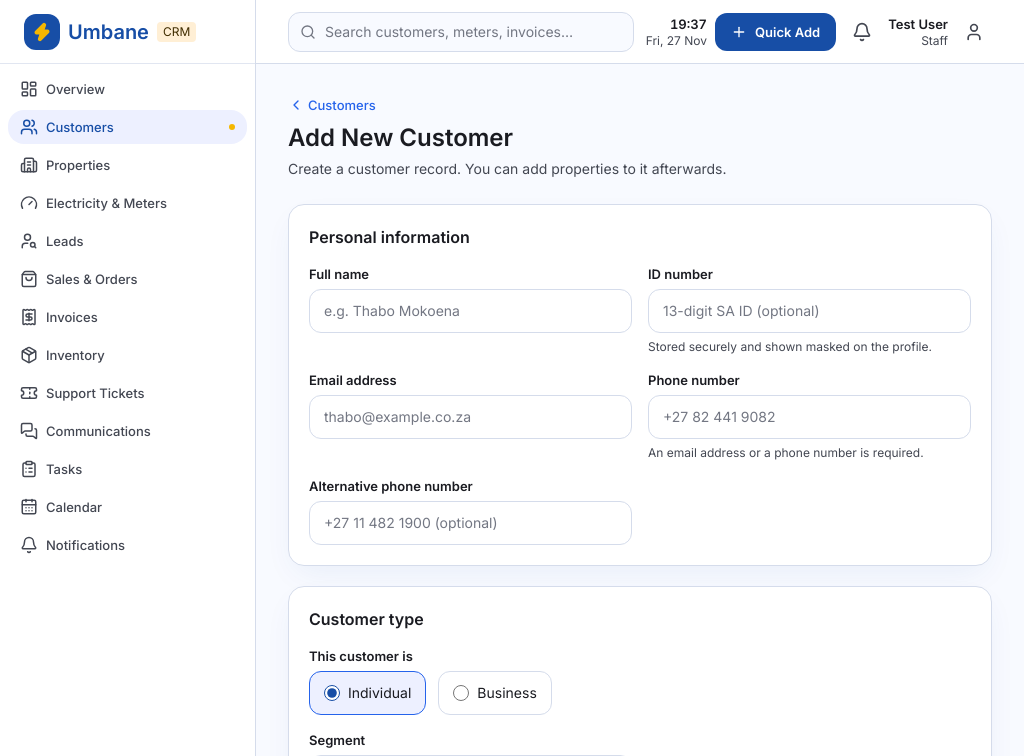
Test: add customer › validates the ID number, email, phone and postal code
In the field labelled "Full name": (470,311) left=309, top=289, right=632, bottom=333, type "Thabo Mokoena"
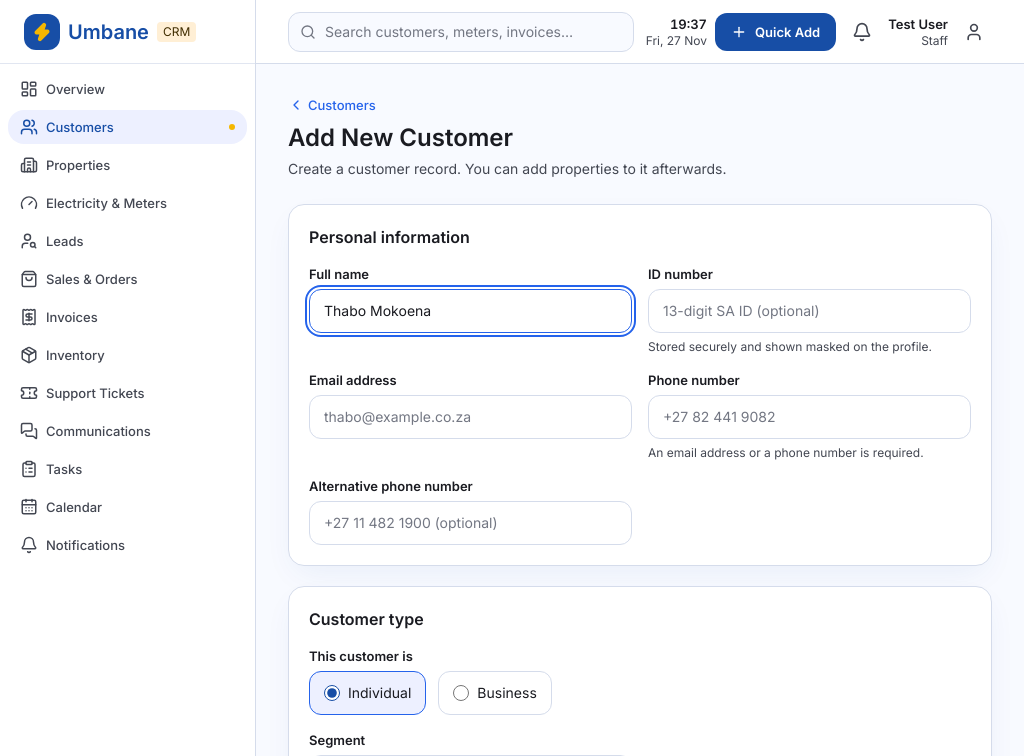
In the field labelled "ID number": (810,311) left=648, top=289, right=971, bottom=333, type "8805145028085"
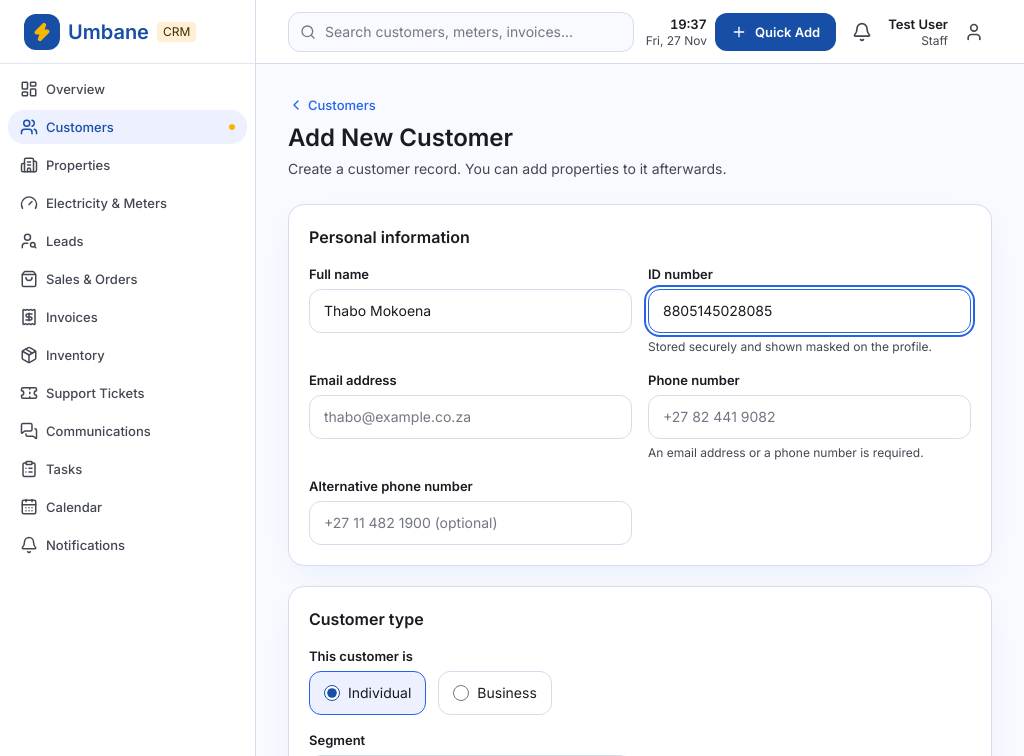
In the field labelled "Email address": (470,417) left=309, top=395, right=632, bottom=439, type "nope"
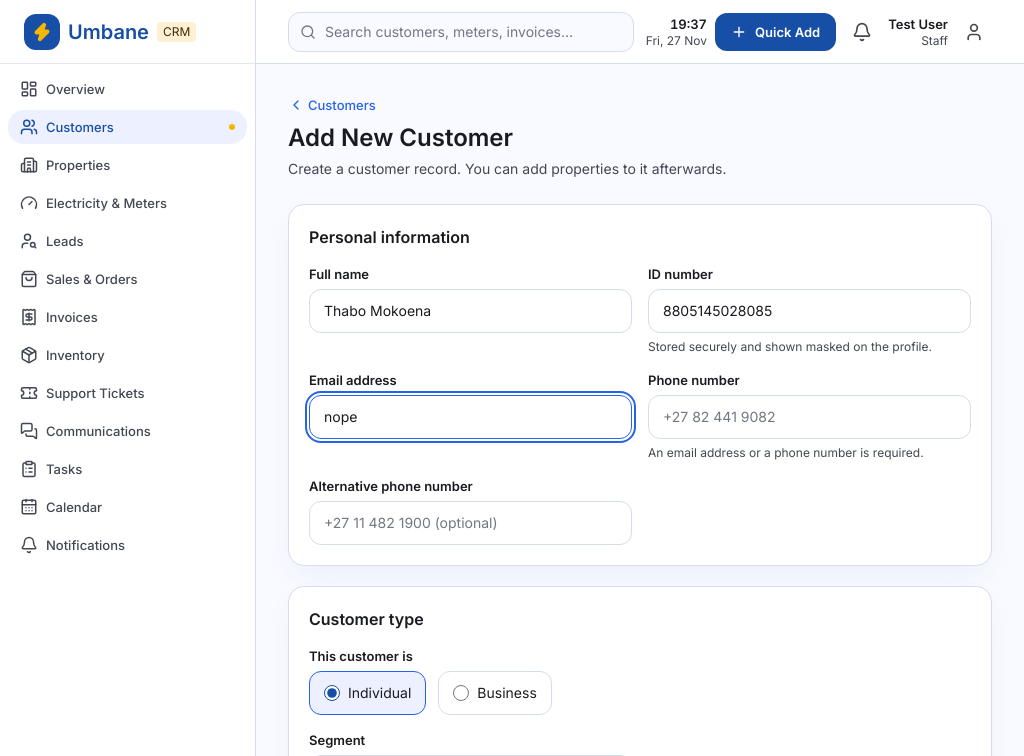
In the field labelled "Phone number": (810,417) left=648, top=395, right=971, bottom=439, type "123"
(page scrolled)
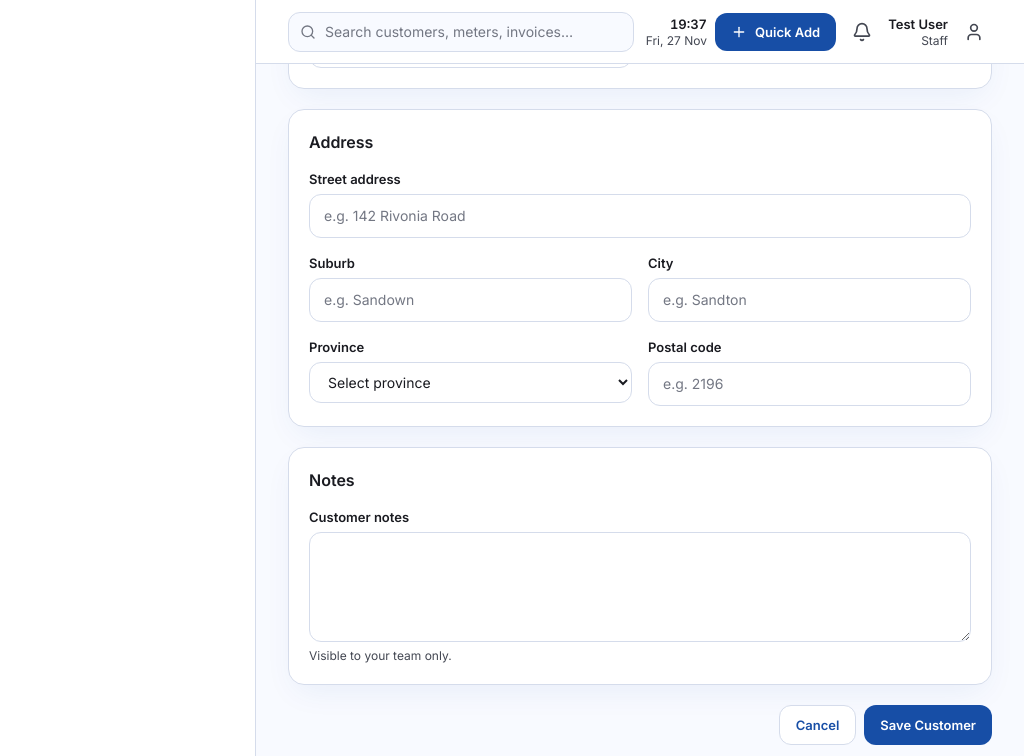
In the field labelled "Postal code": (810,384) left=648, top=362, right=971, bottom=406, type "21"
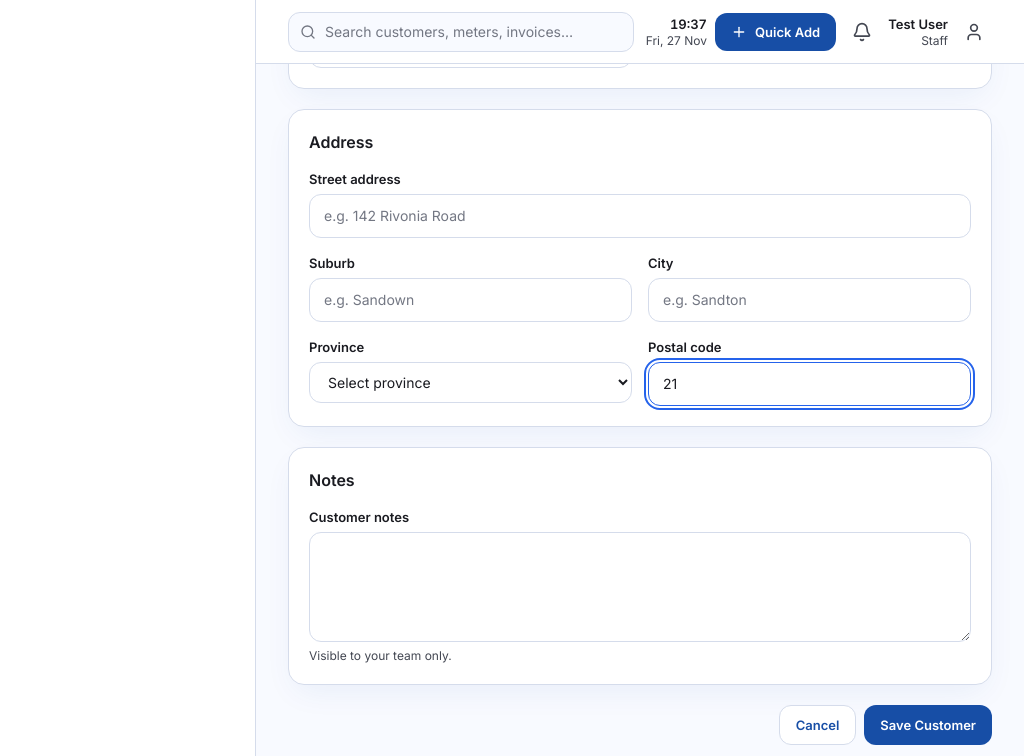
Click the button "Save Customer": (928,725) left=864, top=705, right=992, bottom=745
(page scrolled)
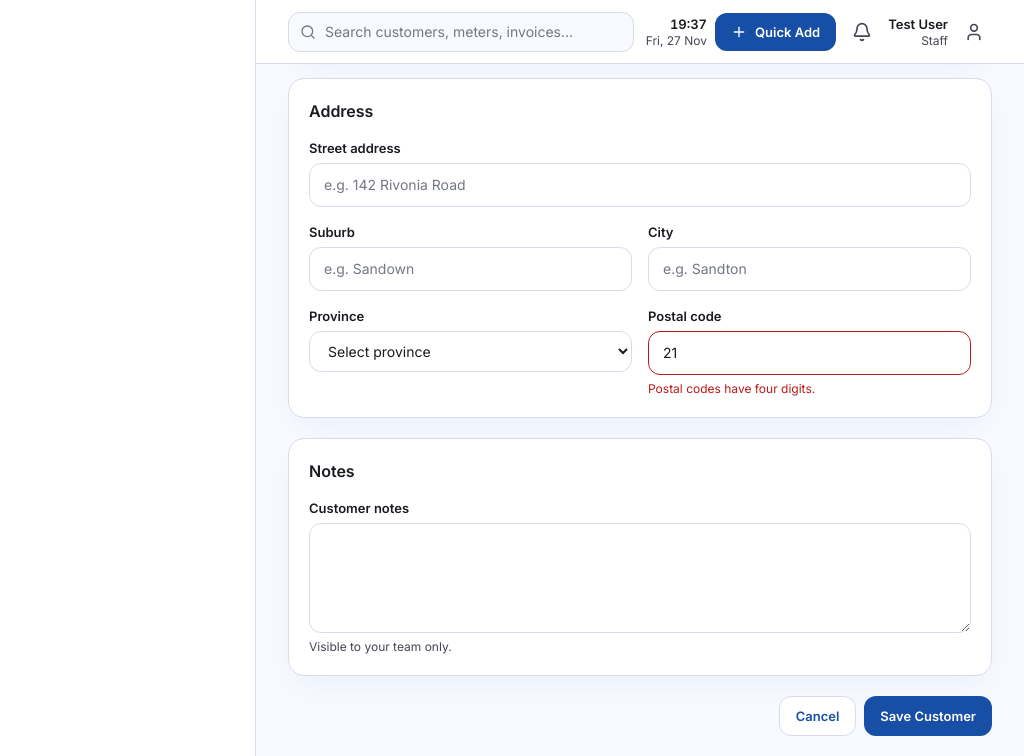
Expected: the text "Postal codes have four digits." is shown, left=648, top=381, right=815, bottom=396
